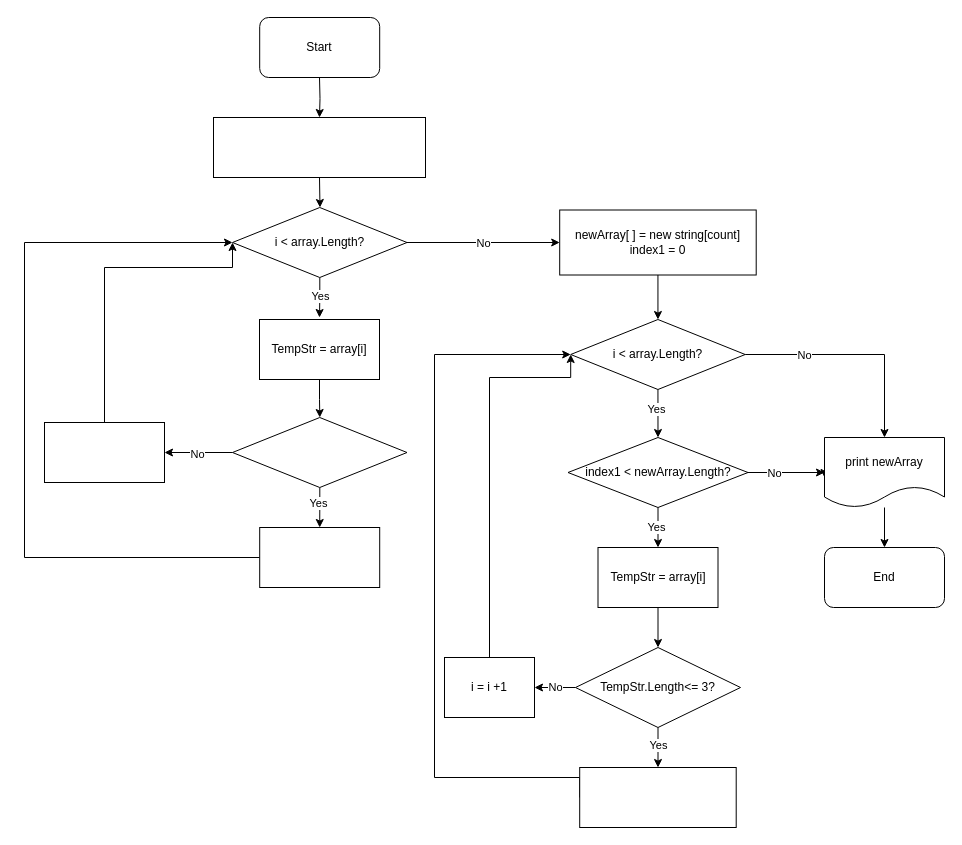
Some shapes in this 962 by 845 pixel diagram are drawn without their labels. Here are the shapes that lost their labels. From the top down, the centre of each, then its label:
At point (319, 147): "array= [“Hello”, “2”, “world”, “:-)”] count = 0 i = 0".
At point (104, 452): "i = i + 1".
At point (319, 452): "TempStr.Length <= 3?".
At point (319, 557): "count = count +1 i = i +1".
At point (657, 797): "newArray[index1] = array[i] i = i + 1 index1 = index1 + 1".
